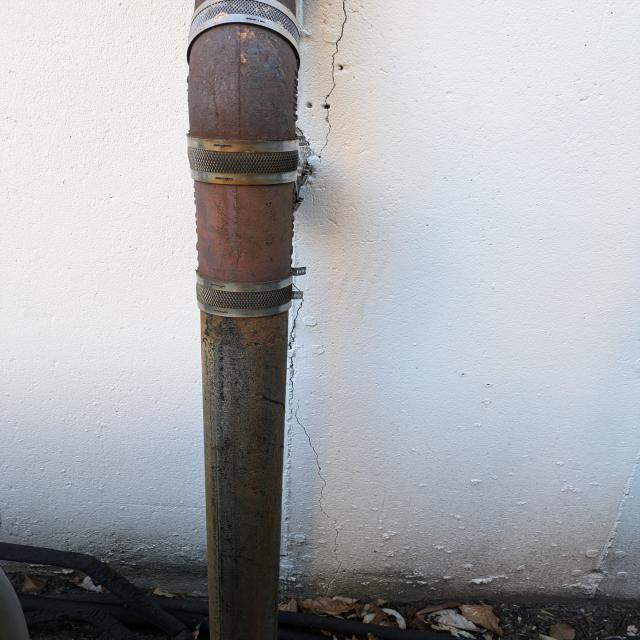Crevice Corrosion: (189, 1, 300, 61), (188, 134, 300, 186), (197, 274, 292, 318)
Uniform Corrosion: (203, 314, 288, 640), (189, 24, 300, 159), (196, 182, 294, 284), (233, 79, 239, 90)
